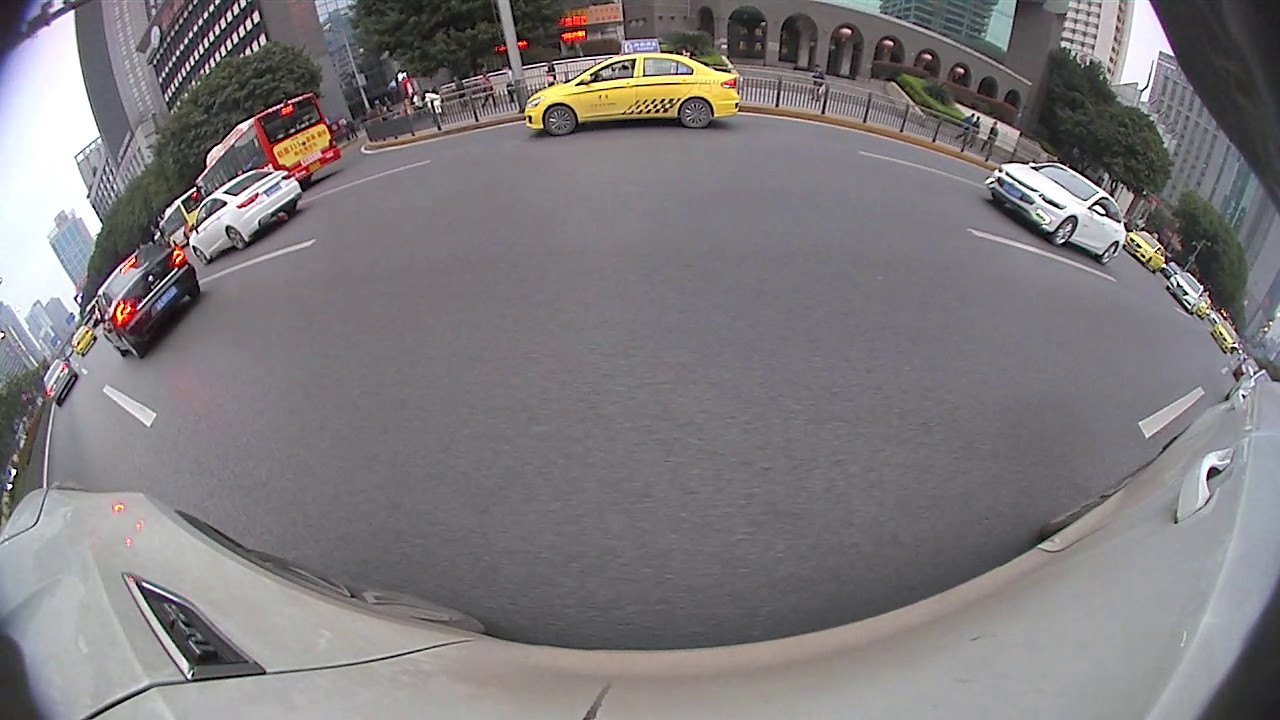bus: (193, 91, 343, 192), (159, 185, 228, 252)
car: (529, 37, 745, 137), (981, 162, 1127, 266), (95, 246, 215, 362), (188, 169, 303, 266), (1120, 229, 1168, 274), (41, 355, 78, 409), (1167, 272, 1204, 316)
front: (544, 105, 575, 135), (1052, 217, 1079, 246), (194, 248, 209, 263)
rear: (680, 97, 713, 129), (226, 229, 246, 250), (1103, 241, 1117, 265)
